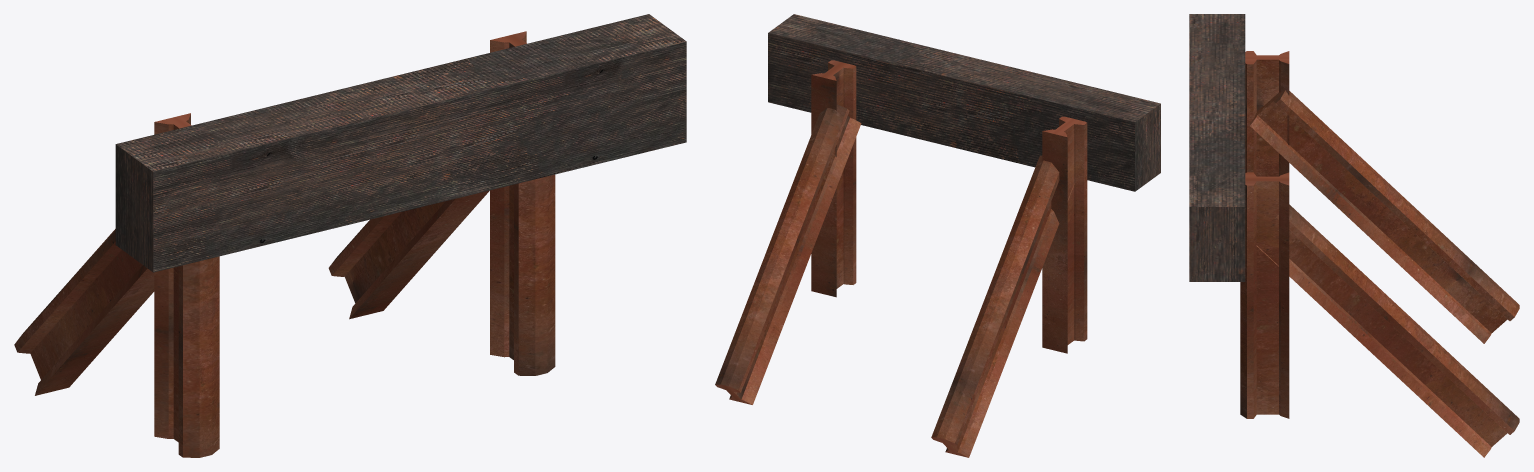
Rendered from rail_buffer_750mm.obj.
The picture shows the model from 3 angles, left to right: view 1: azimuth 30°, elevation 25°; view 2: azimuth 150°, elevation 25°; view 3: azimuth 270°, elevation 25°; orthographic projection. The views are drawn at different scales.
Visible parts, largest first — view 1: prellbock_750mm; view 2: prellbock_750mm; view 3: prellbock_750mm.
Boxes of the visible parts, x1=… form: prellbock_750mm: x1=14, y1=14, x2=686, y2=457; prellbock_750mm: x1=715, y1=14, x2=1160, y2=457; prellbock_750mm: x1=1189, y1=14, x2=1519, y2=457.
Bounding box in the file's own units: 1.51 × 1.06 × 1.09.
1 material, 1 textured.
